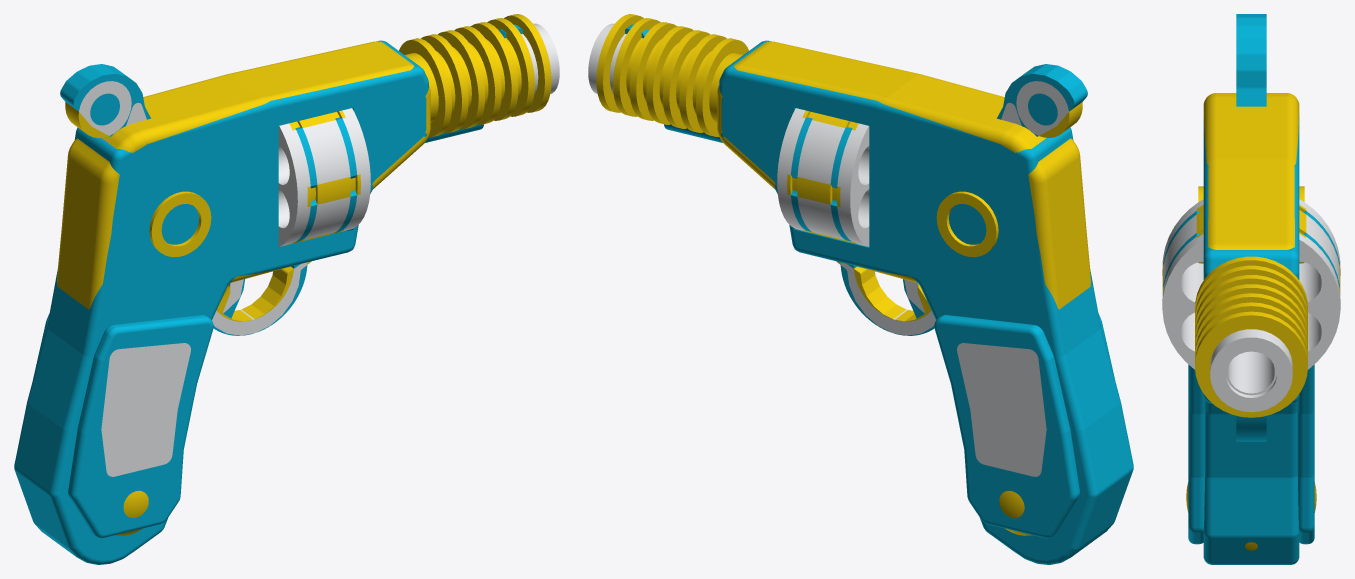
File: diff_volume.glb
The picture shows the model from 3 angles, left to right: view 1: azimuth 30°, elevation 25°; view 2: azimuth 150°, elevation 25°; view 3: azimuth 270°, elevation 25°; orthographic projection. The views are drawn at different scales.
Parts seen in each view (by area): view 1: =>[0:1:1:76], =>[0:1:1:77], =>[0:1:1:107], =>[0:1:1:119], =>[0:1:1:135], =>[0:1:1:57], =>[0:1:1:40], =>[0:1:1:116], =>[0:1:1:79], =>[0:1:1:120], =>[0:1:1:110], =>[0:1:1:140] (+8 smaller); view 2: =>[0:1:1:76], =>[0:1:1:77], =>[0:1:1:106], =>[0:1:1:119], =>[0:1:1:135], =>[0:1:1:54], =>[0:1:1:40], =>[0:1:1:116], =>[0:1:1:79], =>[0:1:1:121], =>[0:1:1:110], =>[0:1:1:140] (+8 smaller); view 3: =>[0:1:1:77], =>[0:1:1:119], =>[0:1:1:40], =>[0:1:1:135], =>[0:1:1:140], =>[0:1:1:73], =>[0:1:1:110], =>[0:1:1:106], =>[0:1:1:107], =>[0:1:1:79], =>[0:1:1:43], =>[0:1:1:113] (+1 smaller).
Boxes of the visible parts, left/top/right/bottom form: =>[0:1:1:76]: left=101, top=79, right=426, bottom=338; =>[0:1:1:77]: left=14, top=184, right=373, bottom=564; =>[0:1:1:107]: left=68, top=315, right=213, bottom=538; =>[0:1:1:119]: left=101, top=41, right=414, bottom=153; =>[0:1:1:135]: left=399, top=18, right=534, bottom=136; =>[0:1:1:57]: left=101, top=343, right=190, bottom=476; =>[0:1:1:40]: left=278, top=108, right=370, bottom=246; =>[0:1:1:116]: left=57, top=138, right=119, bottom=309; =>[0:1:1:79]: left=148, top=40, right=428, bottom=144; =>[0:1:1:120]: left=149, top=191, right=211, bottom=257; =>[0:1:1:110]: left=60, top=64, right=150, bottom=136; =>[0:1:1:140]: left=504, top=14, right=551, bottom=112; =>[0:1:1:76]: left=721, top=79, right=1046, bottom=338; =>[0:1:1:77]: left=774, top=184, right=1133, bottom=564; =>[0:1:1:106]: left=934, top=315, right=1079, bottom=538; =>[0:1:1:119]: left=733, top=41, right=1046, bottom=153; =>[0:1:1:135]: left=613, top=18, right=748, bottom=136; =>[0:1:1:54]: left=957, top=343, right=1046, bottom=476; =>[0:1:1:40]: left=777, top=108, right=869, bottom=246; =>[0:1:1:116]: left=1028, top=138, right=1090, bottom=309; =>[0:1:1:79]: left=719, top=40, right=998, bottom=143; =>[0:1:1:121]: left=936, top=191, right=998, bottom=257; =>[0:1:1:110]: left=997, top=64, right=1087, bottom=136; =>[0:1:1:140]: left=596, top=14, right=643, bottom=112; =>[0:1:1:77]: left=1203, top=394, right=1299, bottom=564; =>[0:1:1:119]: left=1203, top=93, right=1299, bottom=249; =>[0:1:1:40]: left=1162, top=199, right=1340, bottom=369; =>[0:1:1:135]: left=1195, top=256, right=1307, bottom=359; =>[0:1:1:140]: left=1195, top=311, right=1307, bottom=417; =>[0:1:1:73]: left=1210, top=336, right=1292, bottom=412; =>[0:1:1:110]: left=1236, top=14, right=1266, bottom=106; =>[0:1:1:106]: left=1297, top=364, right=1314, bottom=544; =>[0:1:1:107]: left=1188, top=364, right=1205, bottom=544; =>[0:1:1:79]: left=1203, top=115, right=1299, bottom=279; =>[0:1:1:43]: left=1226, top=351, right=1276, bottom=395; =>[0:1:1:113]: left=1236, top=416, right=1266, bottom=441.
Bounding box in the file's own units: 154 × 138 × 40.93.
